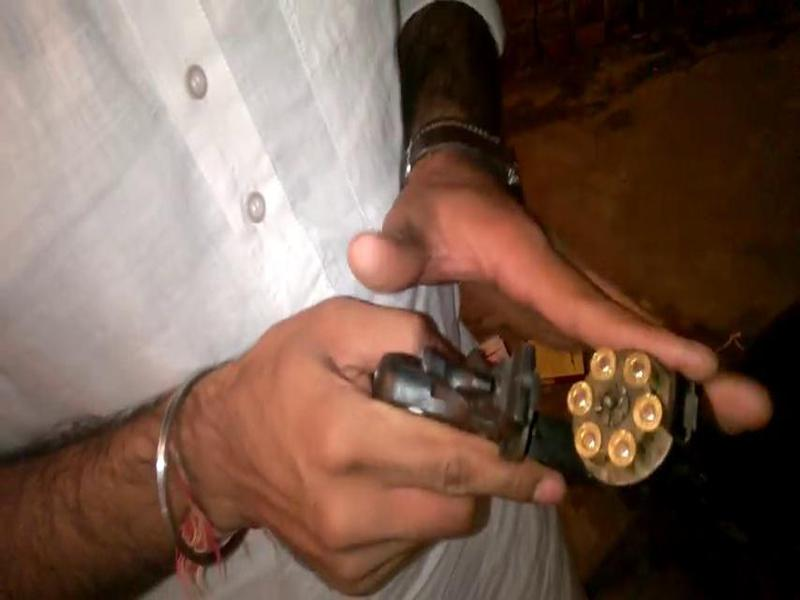Revolver: (361, 319, 788, 522)
